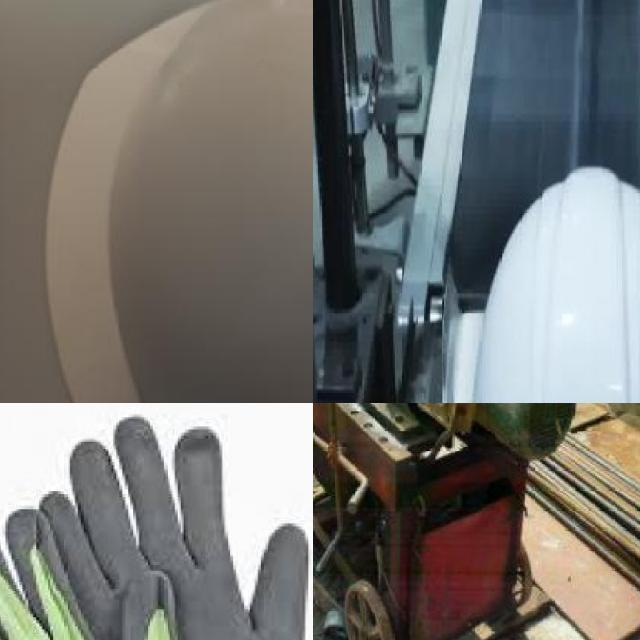apron: (51, 403, 313, 640), (0, 508, 193, 640)
